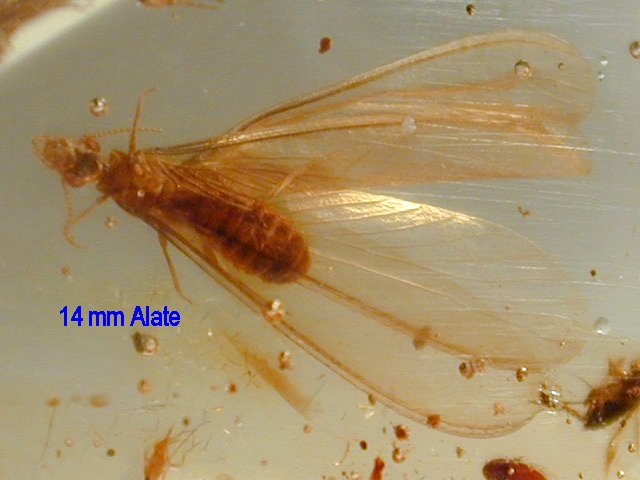flying termite: (31, 30, 604, 436)
